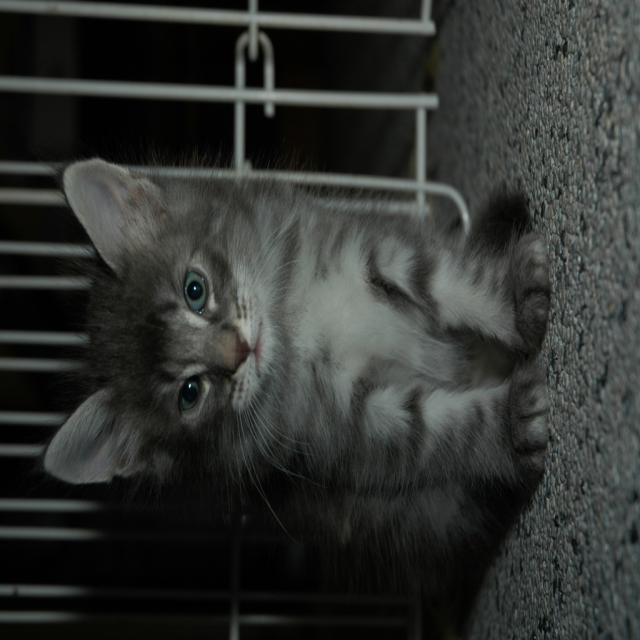Cat: (26, 133, 556, 606)
